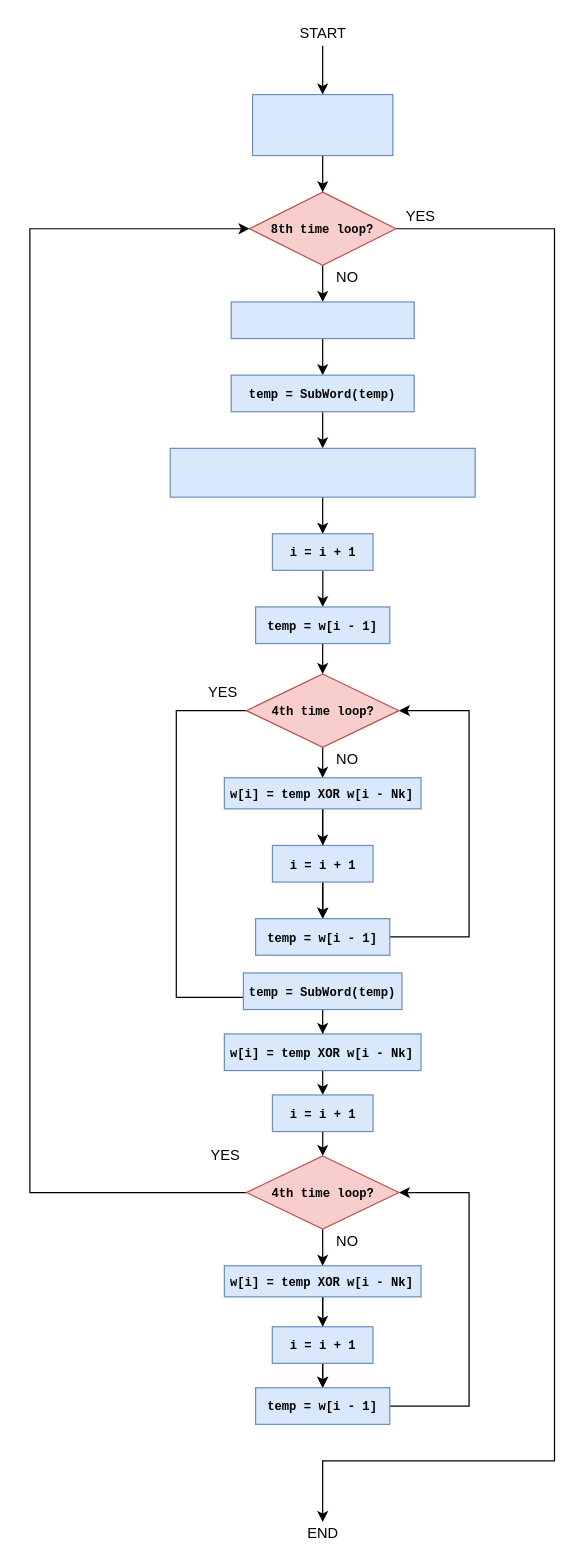
Image size: 586x1566. Some labels were removed from this diagram. The box of each missing label's shape, as (x1, y1, x2, y2) in pixels:
Nk = 8 i = 8 temp = w[i - 1]: (251, 93, 393, 156)
temp = RotWord(temp): (230, 301, 414, 339)
w[i] = temp XOR Rcon [i/Nk] XOR w[i - Nk]: (169, 447, 475, 497)
